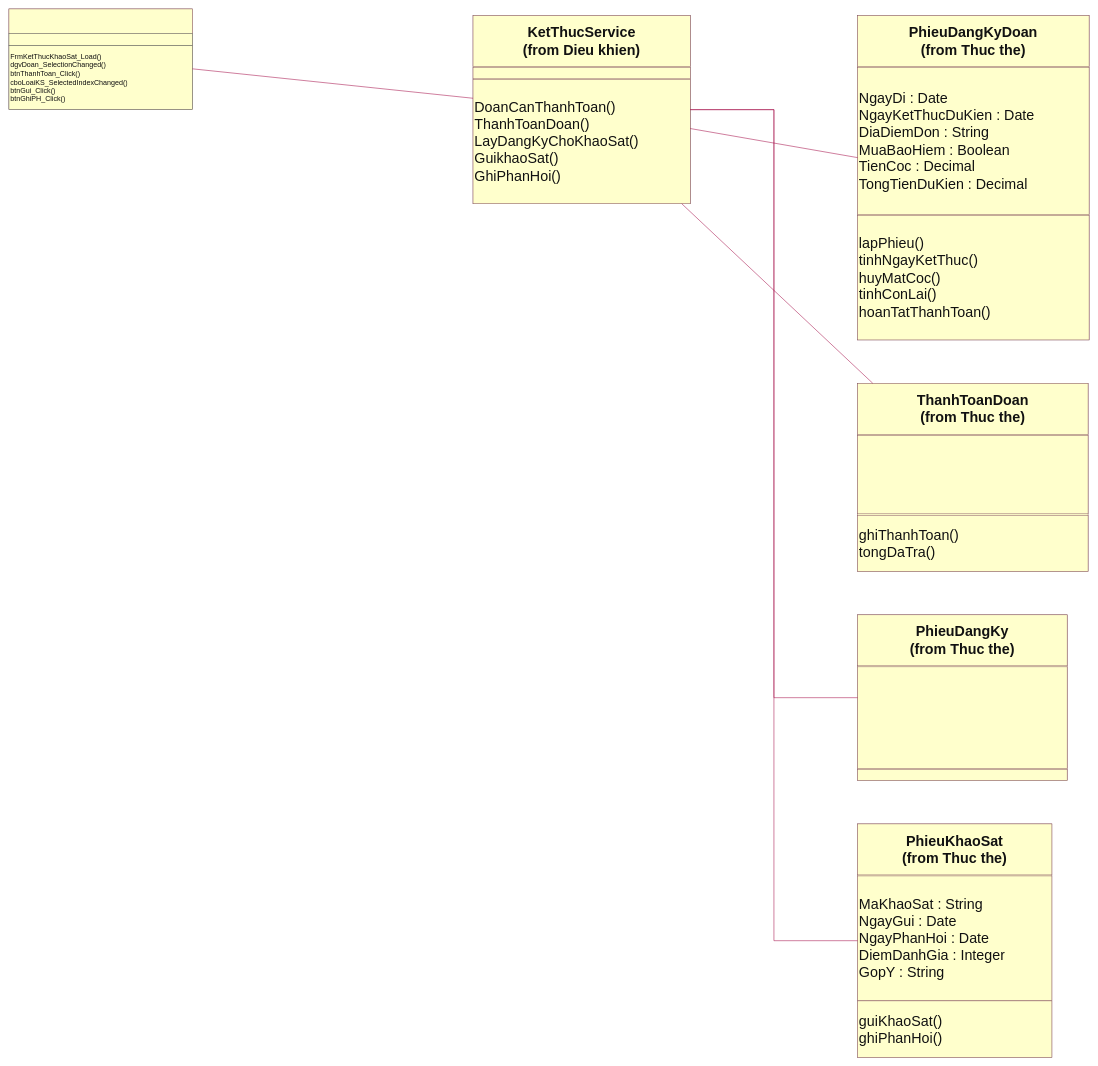
Some shapes in this 1098 by 1066 pixel diagram are drawn without their labels. Here are the shapes that lost their labels. From the top down, the centre of each, then its label:
At pixel 100 20: "«boundary» FrmKetThucKhaoSat".
At pixel 972 474: "SoTT : String NgayThanhToan : DateTime SoTien : Decimal".
At pixel 962 717: "SoPhieu : String NgayDangKy : DateTime SoNguoi : Integer TrangThai : String".
